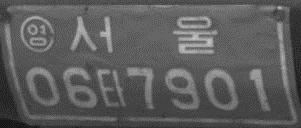0: (203, 67, 239, 111), (24, 65, 59, 106)
1: (244, 68, 276, 112)
6: (61, 66, 97, 108)
7: (126, 66, 154, 110)
9: (164, 67, 199, 111)
서울_D: (68, 15, 217, 55)
영: (19, 15, 55, 53)
타: (97, 67, 124, 107)
